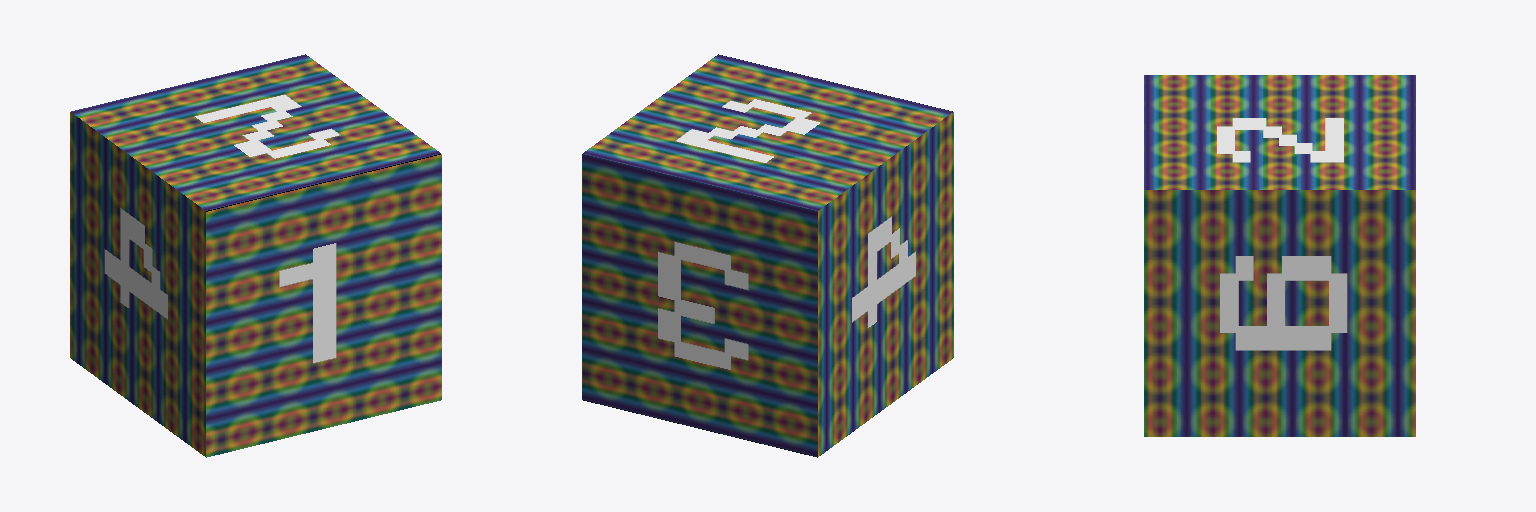
3 renders of one model, left to right at view 1: azimuth 30°, elevation 25°; view 2: azimuth 150°, elevation 25°; view 3: azimuth 270°, elevation 25°, orthographic.
Parts seen in each view (by area): view 1: Box003; view 2: Box003; view 3: Box003.
Part boxes in pixels (left/top/right/bottom): Box003: left=70, top=54, right=441, bottom=457; Box003: left=582, top=54, right=953, bottom=457; Box003: left=1144, top=75, right=1415, bottom=436.
Bounding box in the file's own units: 10 × 10 × 10.
Materials: 1 (1 with a texture image).